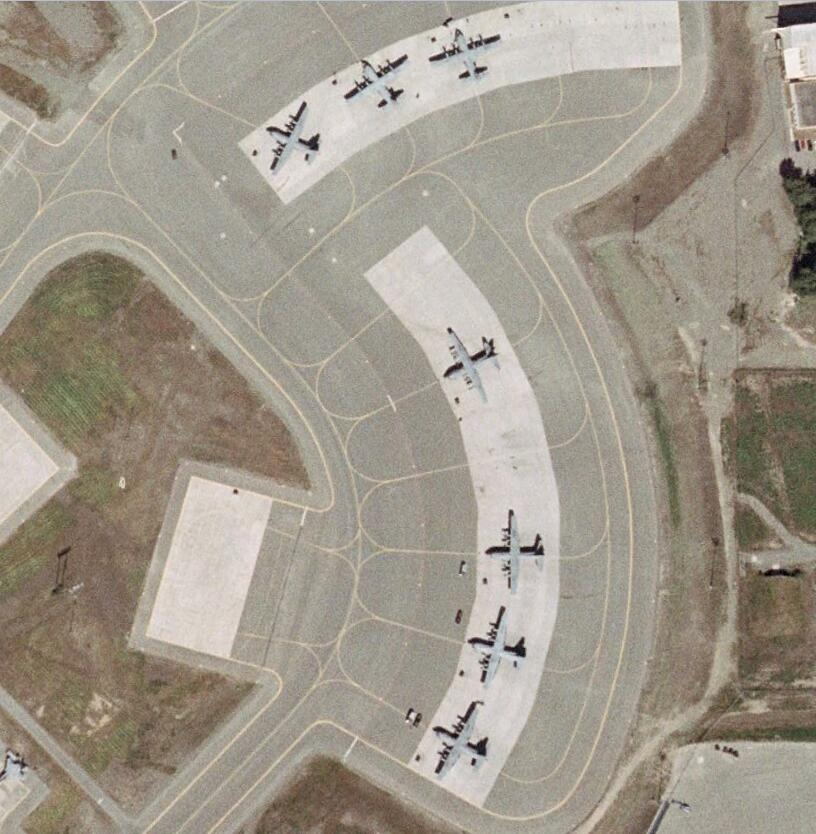A2: (468, 605, 530, 691), (486, 510, 547, 597), (431, 699, 491, 783), (266, 100, 323, 177), (428, 31, 506, 85), (442, 328, 500, 400), (343, 57, 413, 112)
